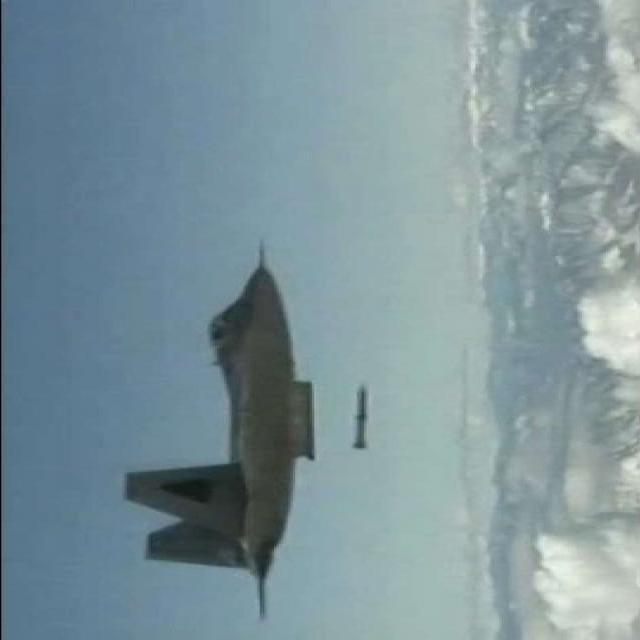missile: (342, 378, 377, 452)
